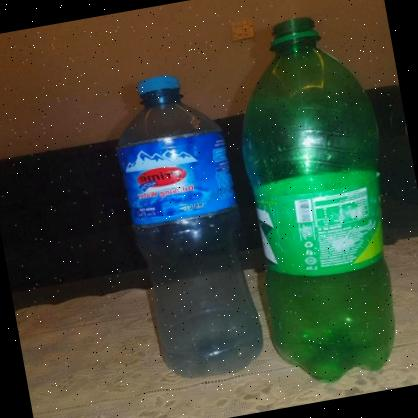bottle: (213, 0, 418, 394), (85, 57, 277, 394)
cap: (130, 70, 187, 104)
label: (249, 172, 401, 294), (109, 122, 239, 236)
